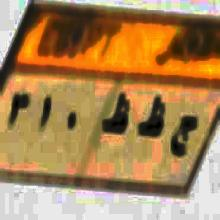0: (58, 104, 82, 144)
1: (38, 89, 52, 143)
3: (7, 86, 28, 137)
Thaa: (138, 90, 166, 148), (102, 91, 134, 137)
jeem: (170, 102, 198, 165)
